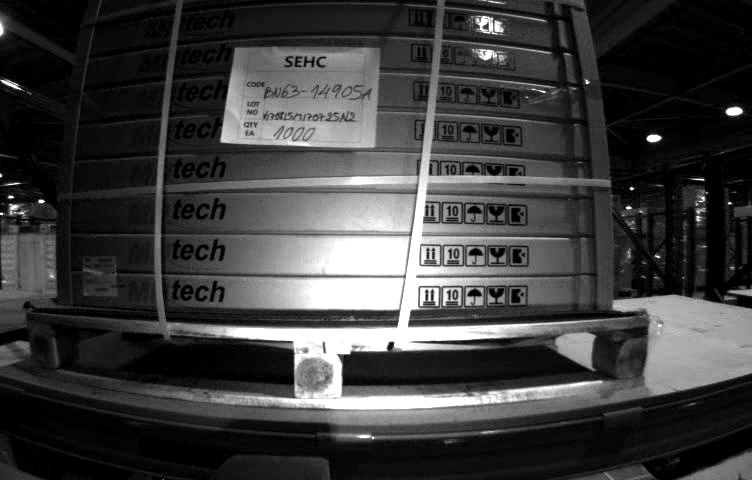True Barcode: (82, 257, 117, 296)
